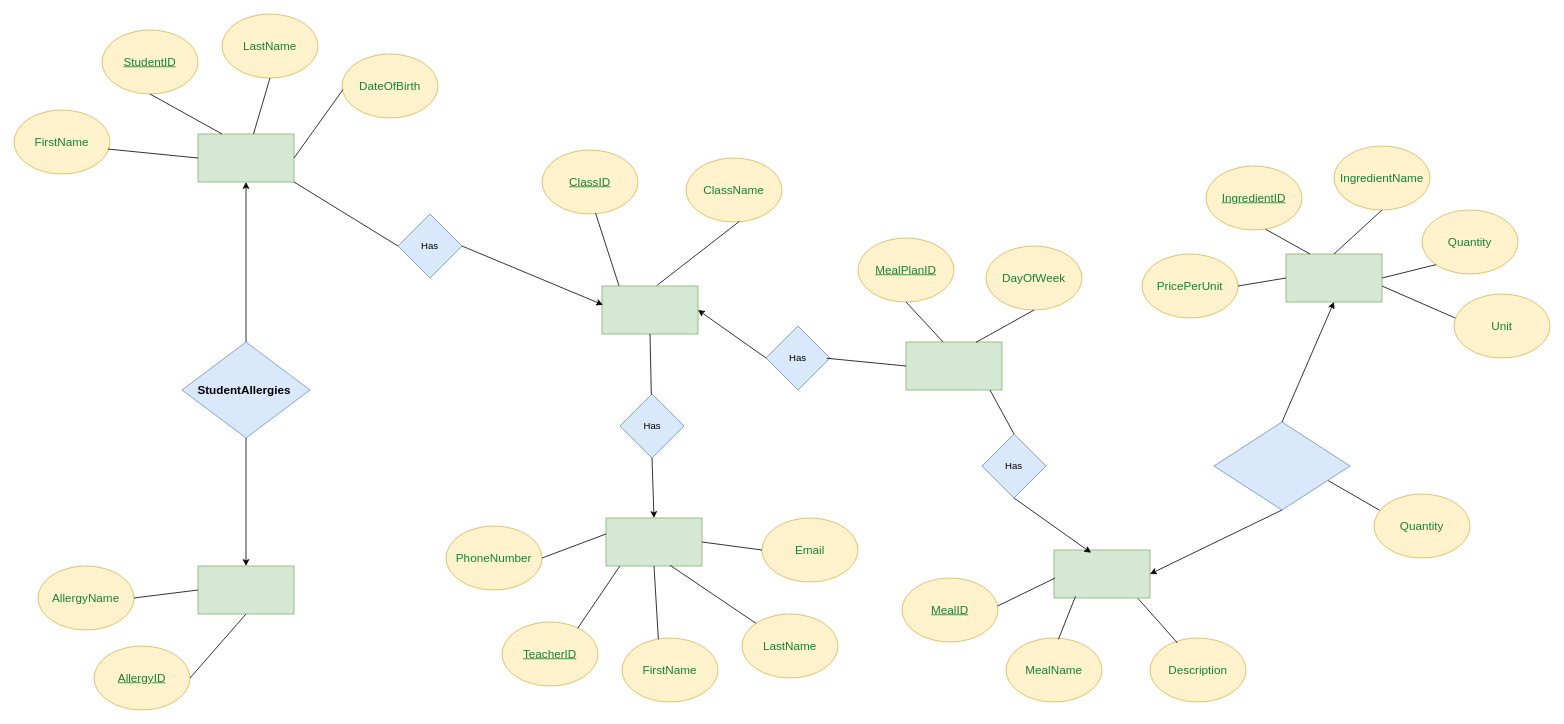
Some shapes in this 1564 by 724 pixel diagram are drawn without their labels. Here are the shapes that lost their labels. From the top down, the centre of each, then its label:
At point 245,157: "Students".
At point 1333,277: "Ingredients".
At point 649,309: "Classes".
At point 953,365: "MealPlans".
At point 1281,465: "MealIngredients".
At point 653,541: "Teachers".
At point 245,589: "Allergies".
At point 1101,573: "Meals".
